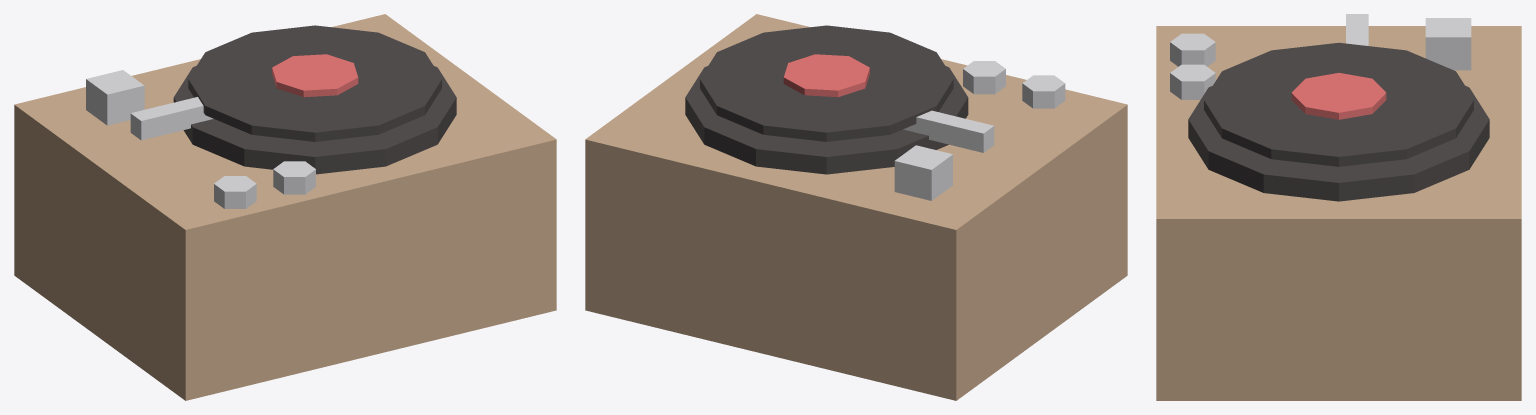
The model's file is record_player.glb.
3 renders of one model, left to right at view 1: azimuth 30°, elevation 25°; view 2: azimuth 150°, elevation 25°; view 3: azimuth 270°, elevation 25°, orthographic. The views are drawn at different scales.
Parts seen in each view (by area): view 1: RecordPlayer; view 2: RecordPlayer; view 3: RecordPlayer.
Boxes of the visible parts, x1,y1,x2,y2 form: RecordPlayer: [14, 14, 556, 400]; RecordPlayer: [585, 14, 1127, 400]; RecordPlayer: [1156, 14, 1521, 400].
Size of the model in its own units: 0.5 by 0.2745 by 0.4.
